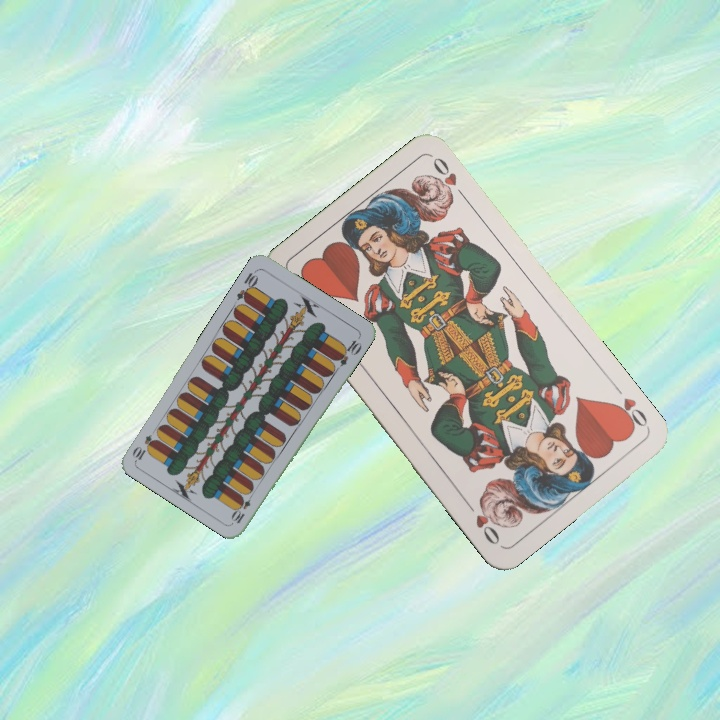E10: (233, 266, 261, 305), (228, 488, 256, 526)
HO: (608, 393, 652, 434)
